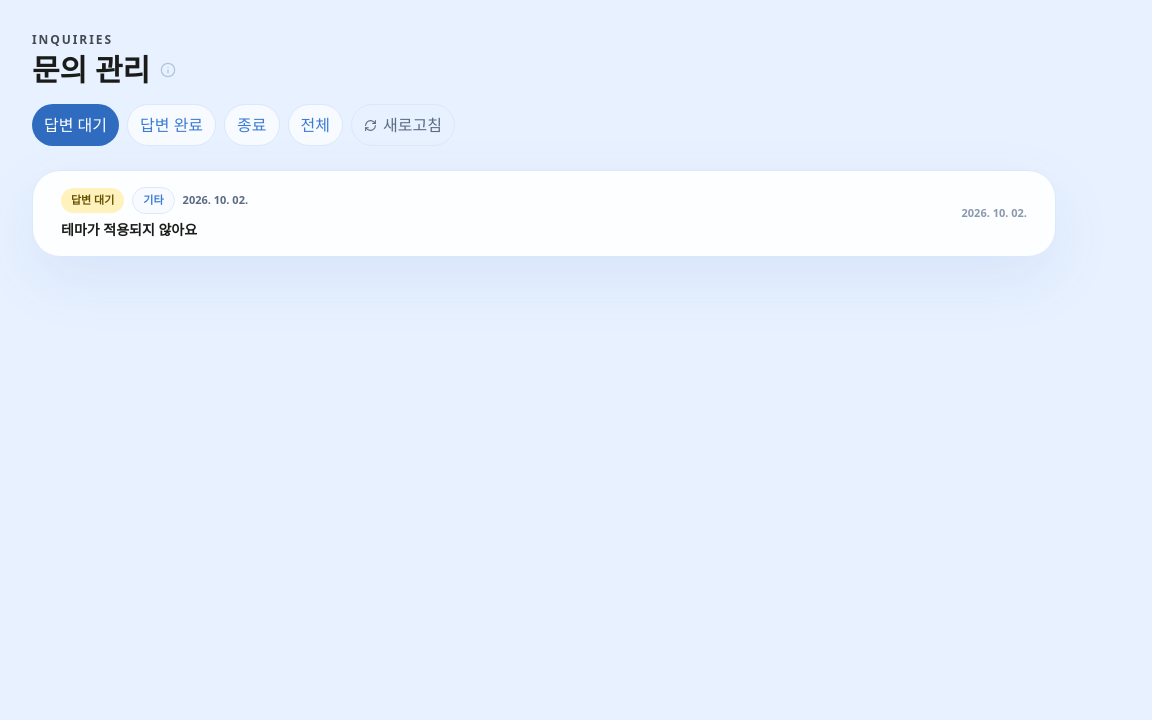
Test: AdminInquiriesClient shell badge refresh › 변경이 실패하면 배지를 다시 받지 않는다
What coordinates should you click on to do the following:
click the text "테마가 적용되지 않아요"
I would click on:
 (129, 229)
Its box is [61,220,197,238].
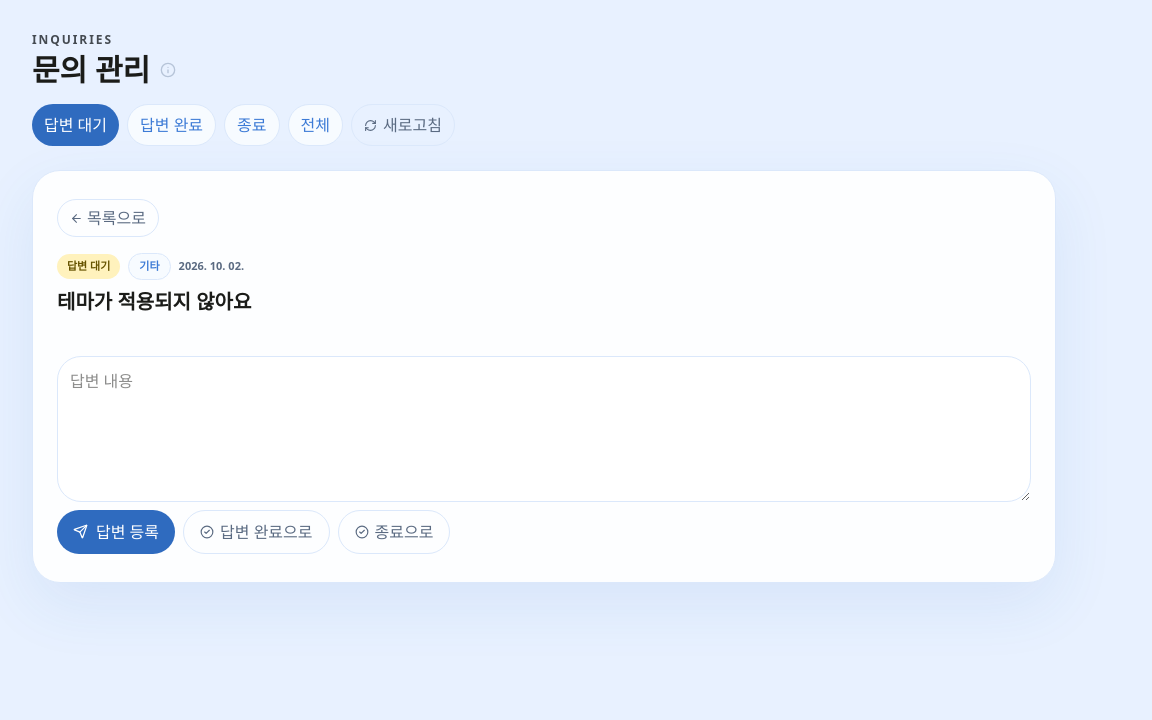
Check: the text box with placeholder "답변 내용" is shown, box [57,356,1031,502]
What coordinates should you click on to do the following:
click the button "종료으로"
I would click on:
 (394, 532)
Its box is [338,510,450,554].
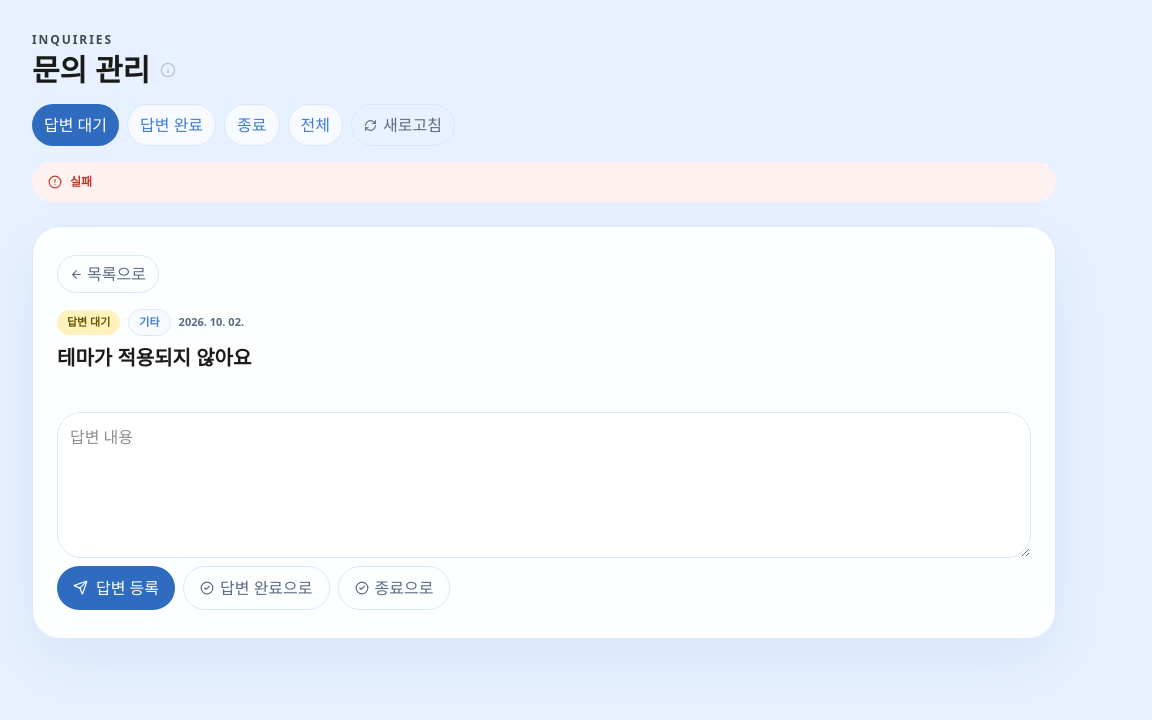
Check: the text "실패" is shown, box [32,162,1056,202]
